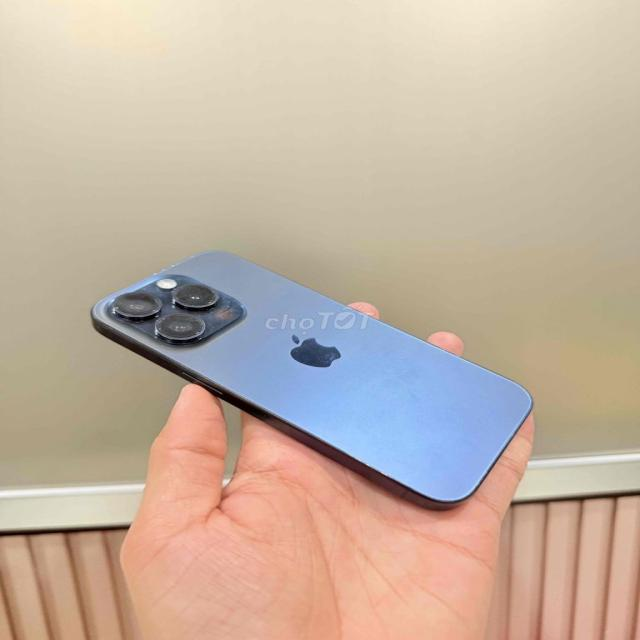gen_15: (87, 239, 544, 518)
